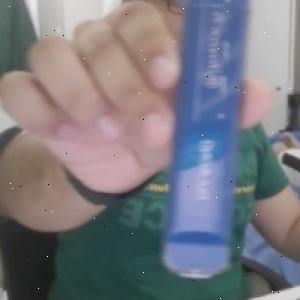Diamond-E-Ciggirate: (159, 0, 249, 281)
